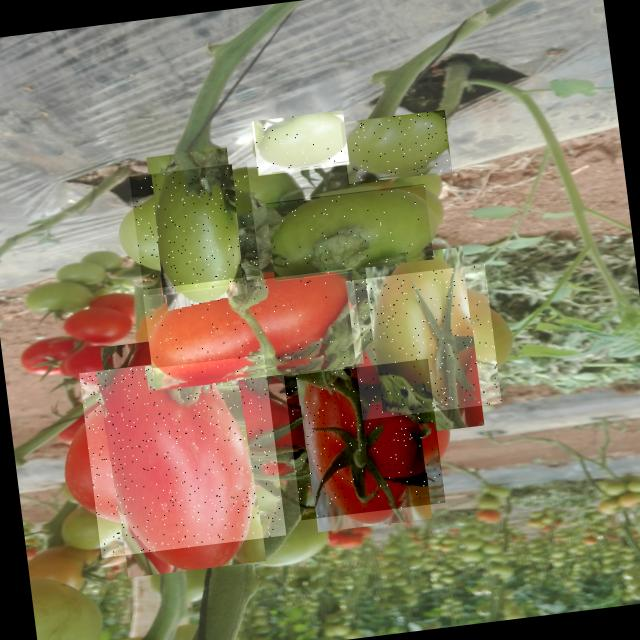Ripe Tomato: (79, 350, 286, 558), (142, 264, 364, 389), (284, 358, 446, 520)
Unripe Tomato: (346, 264, 502, 419), (130, 162, 260, 293), (265, 181, 433, 278), (340, 110, 452, 184), (251, 110, 349, 176)
